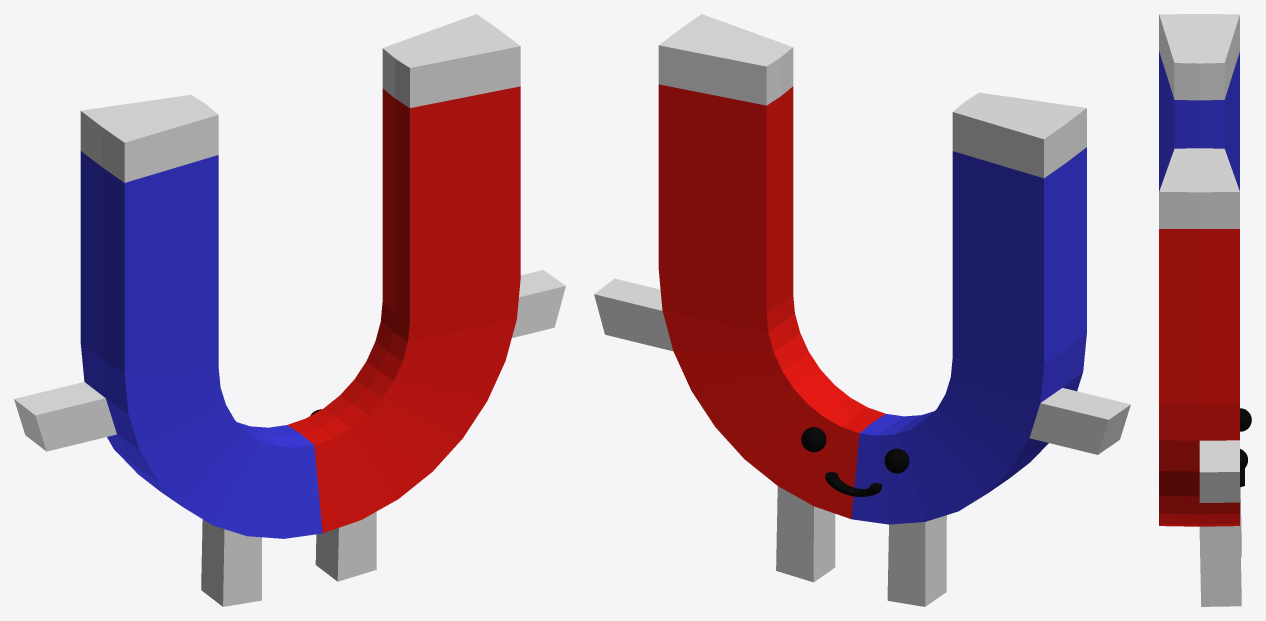
Rendered from LittleMag.fbx.
The picture shows the model from 3 angles, left to right: view 1: azimuth 30°, elevation 25°; view 2: azimuth 150°, elevation 25°; view 3: azimuth 270°, elevation 25°; orthographic projection. The views are drawn at different scales.
Visible parts, largest first — view 1: Torus.001; view 2: Torus.001; view 3: Torus.001.
Boxes of the visible parts, x1,y1,x2,y2 form: Torus.001: (14,14,565,606); Torus.001: (594,14,1130,606); Torus.001: (1159,14,1251,606).
Size of the model in its own units: 4221 by 3903 by 695.
